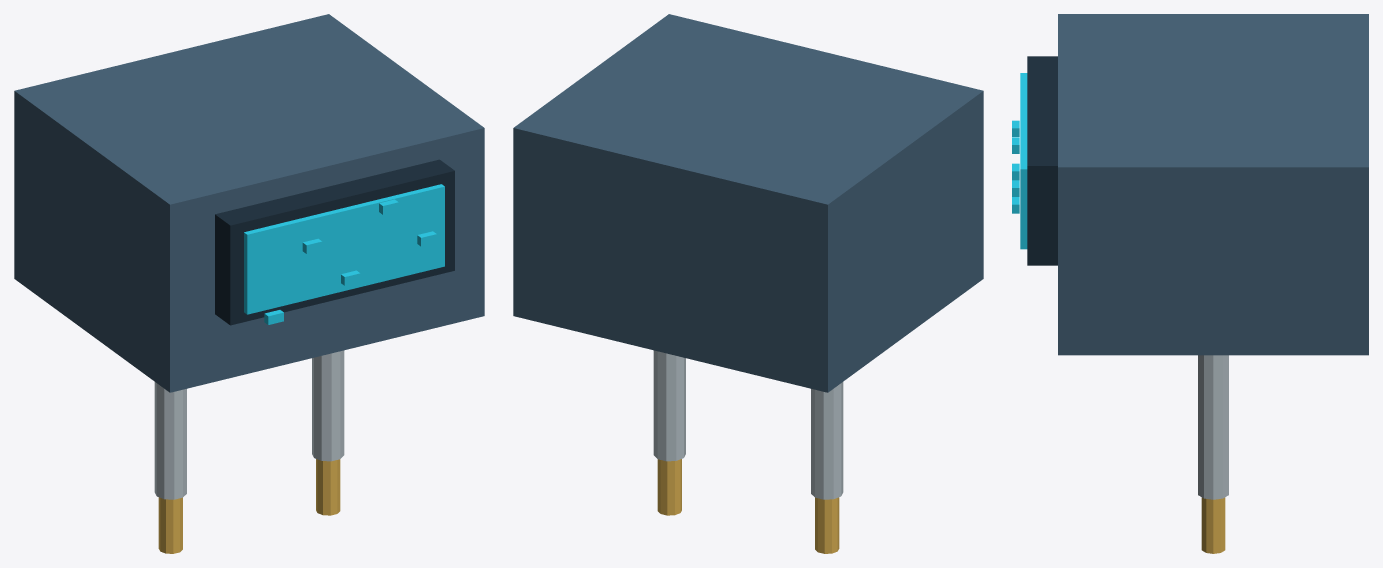
File: 55_L77_ViaContinuityKelvinProbe.fbx
The picture shows the model from 3 angles, left to right: view 1: azimuth 30°, elevation 25°; view 2: azimuth 150°, elevation 25°; view 3: azimuth 270°, elevation 25°; orthographic projection.
Parts seen in each view (by area): view 1: ViaContinuityKelvinProbe_Part_0000, ViaContinuityKelvinProbe_Part_0002, ViaContinuityKelvinProbe_Part_0001, ViaContinuityKelvinProbe_Part_0008, ViaContinuityKelvinProbe_Part_0010, ViaContinuityKelvinProbe_Part_0009, ViaContinuityKelvinProbe_Part_0011; view 2: ViaContinuityKelvinProbe_Part_0000, ViaContinuityKelvinProbe_Part_0008, ViaContinuityKelvinProbe_Part_0010, ViaContinuityKelvinProbe_Part_0009, ViaContinuityKelvinProbe_Part_0011; view 3: ViaContinuityKelvinProbe_Part_0000, ViaContinuityKelvinProbe_Part_0001, ViaContinuityKelvinProbe_Part_0010, ViaContinuityKelvinProbe_Part_0002, ViaContinuityKelvinProbe_Part_0011.
Part boxes in pixels (box(x1,y1,x2,y2)): ViaContinuityKelvinProbe_Part_0000: box(14, 14, 484, 392); ViaContinuityKelvinProbe_Part_0002: box(244, 184, 444, 314); ViaContinuityKelvinProbe_Part_0001: box(215, 159, 454, 325); ViaContinuityKelvinProbe_Part_0008: box(154, 382, 186, 499); ViaContinuityKelvinProbe_Part_0010: box(312, 350, 344, 461); ViaContinuityKelvinProbe_Part_0009: box(158, 497, 182, 553); ViaContinuityKelvinProbe_Part_0011: box(316, 459, 340, 515); ViaContinuityKelvinProbe_Part_0000: box(513, 14, 983, 392); ViaContinuityKelvinProbe_Part_0008: box(811, 382, 843, 499); ViaContinuityKelvinProbe_Part_0010: box(653, 350, 685, 461); ViaContinuityKelvinProbe_Part_0009: box(815, 497, 839, 553); ViaContinuityKelvinProbe_Part_0011: box(657, 459, 681, 515); ViaContinuityKelvinProbe_Part_0000: box(1058, 14, 1368, 355); ViaContinuityKelvinProbe_Part_0001: box(1027, 56, 1057, 265); ViaContinuityKelvinProbe_Part_0010: box(1198, 355, 1228, 499); ViaContinuityKelvinProbe_Part_0002: box(1020, 73, 1027, 249); ViaContinuityKelvinProbe_Part_0011: box(1201, 497, 1225, 553).
Bounding box in the file's own units: 56 × 71.5 × 55.1.
